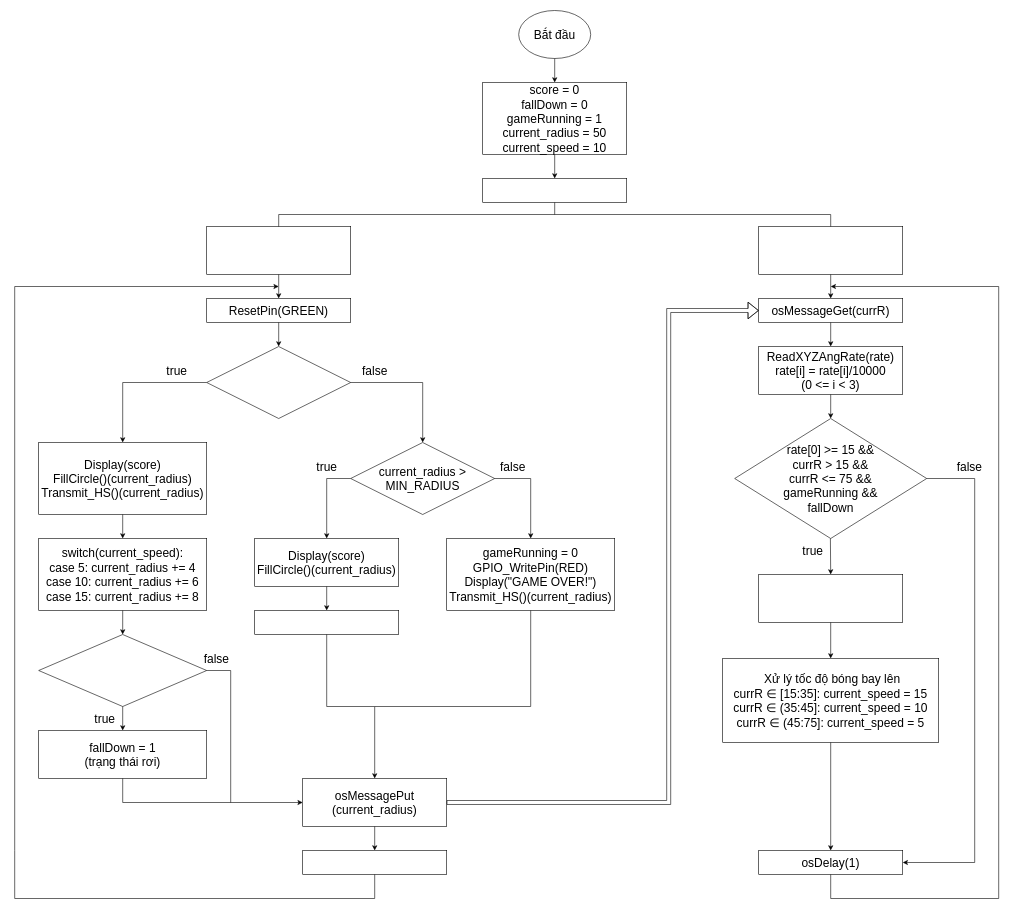
Image size: 1014x914. Some labels were removed from this diagram. Here are the shapes that lost their labels. From the top down, the centre of each, then its label:
At pixel 554 190: "osKernelStart()".
At pixel 278 250: "TASK 1 USB_Init() LCD_Init()".
At pixel 830 250: "TASK 2 Gyro_Init()".
At pixel 278 382: "!fallDown && gameRunning".
At pixel 830 598: "fallDown = 0 score ++ GPIO_WritePin(GREEN)".
At pixel 326 622: "current_radius -= 5".
At pixel 122 670: "current_radius >= MAX_RADIUS".
At pixel 374 862: "osDelay(100)".
